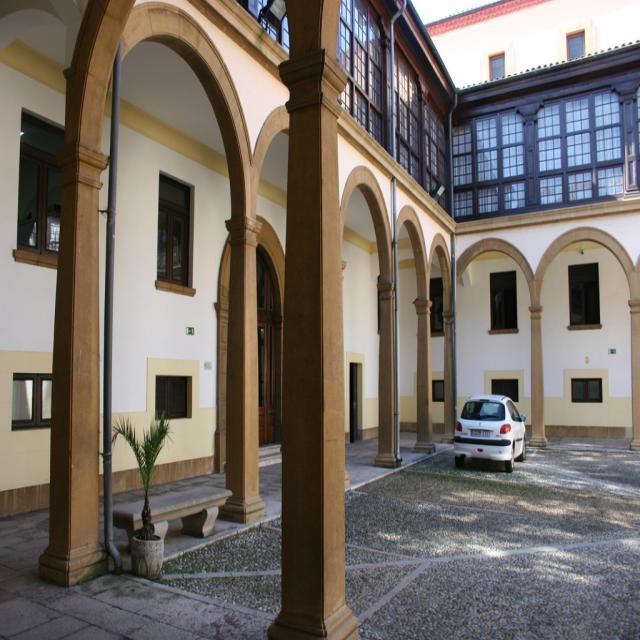car: (454, 393, 527, 468)
